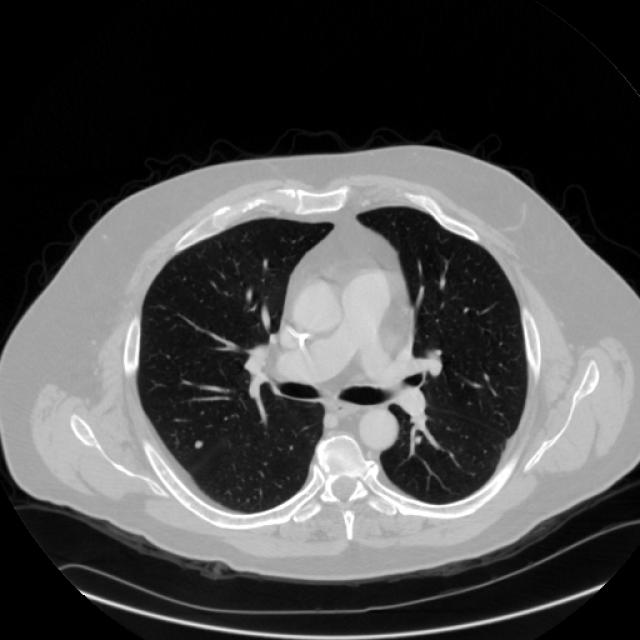nodule: (188, 434, 208, 454)
